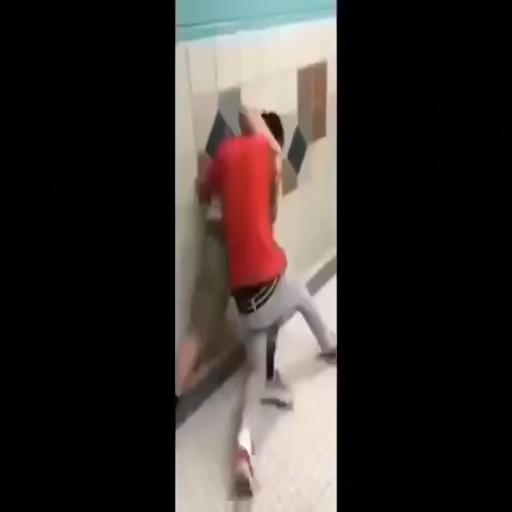violencia: (174, 69, 338, 508)
